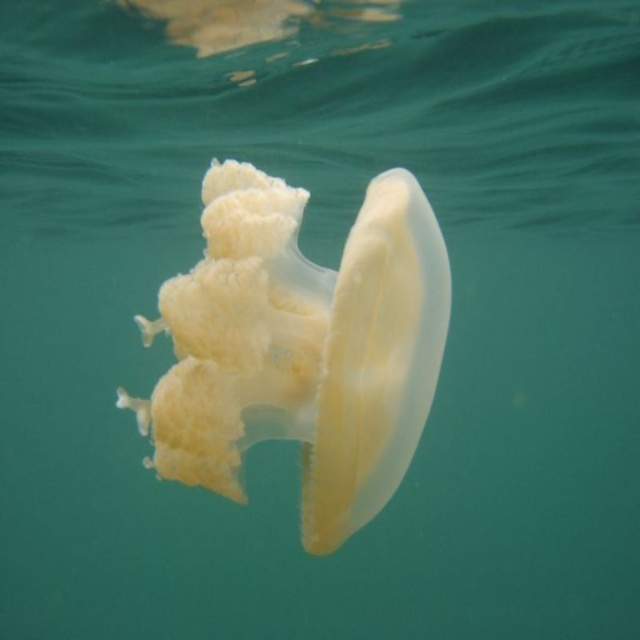Jellyfish: (115, 155, 454, 557)
